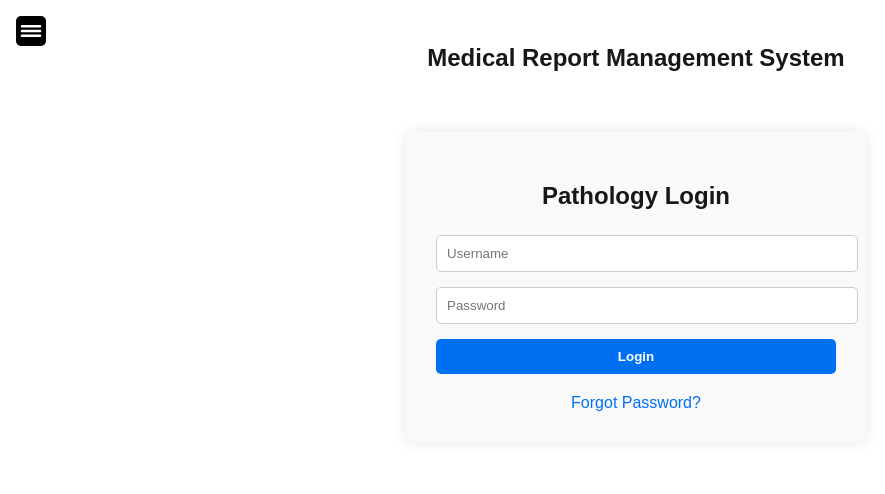
Test case: HospitalLogin › shows error when username does not exist
The image size is (885, 494).
Type "invalidUser" into the field with placeholder "Username".
click(647, 253); type("invalidUser")  # box top-left (436, 235), bottom-right (858, 272)
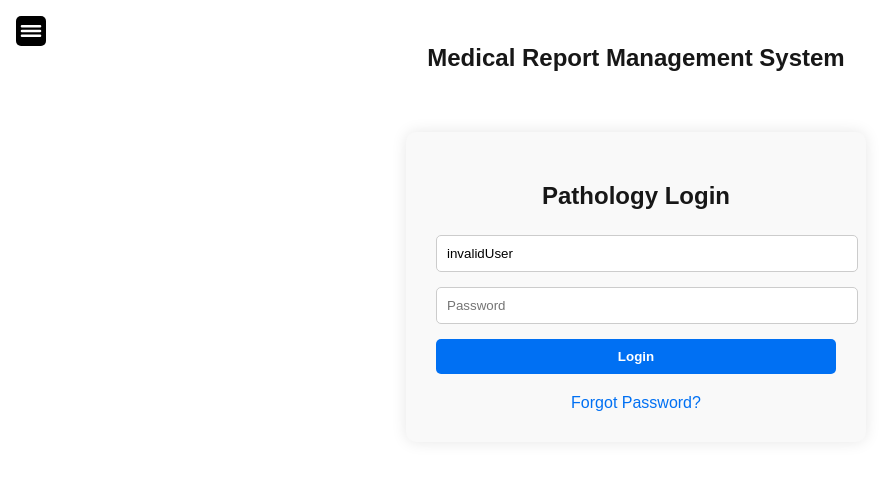
Type "anyPassword" into the password field with placeholder "Password".
click(647, 305); type("anyPassword")  # box top-left (436, 287), bottom-right (858, 324)
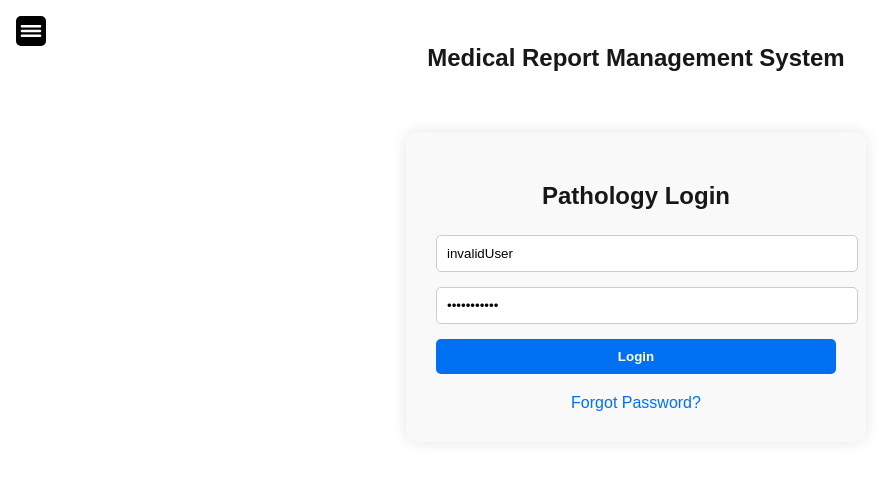
Click the button "Login".
click(636, 356)  # box top-left (436, 339), bottom-right (836, 374)
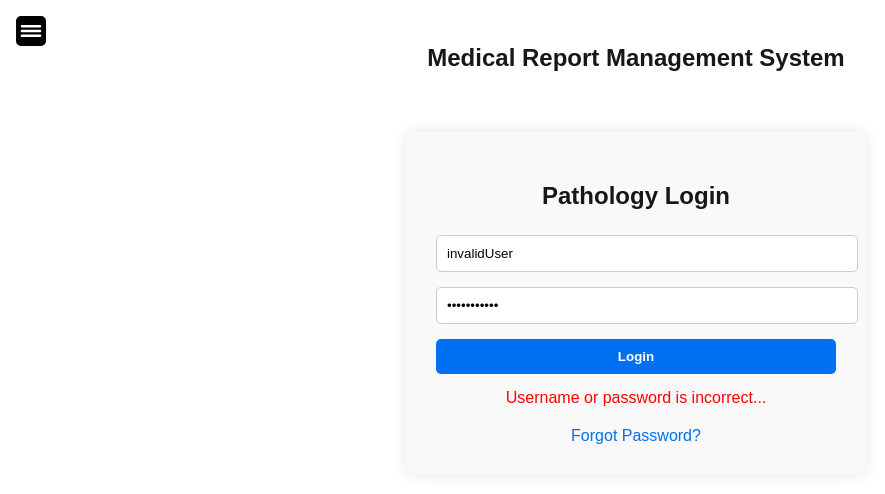
expect the text "Username or password is incorrect..." is shown: met, box top-left (506, 389), bottom-right (766, 406)
